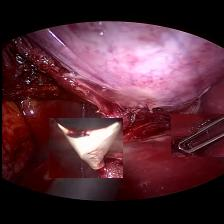Grasper: (170, 114, 224, 157)
Hook: (48, 118, 122, 178)
